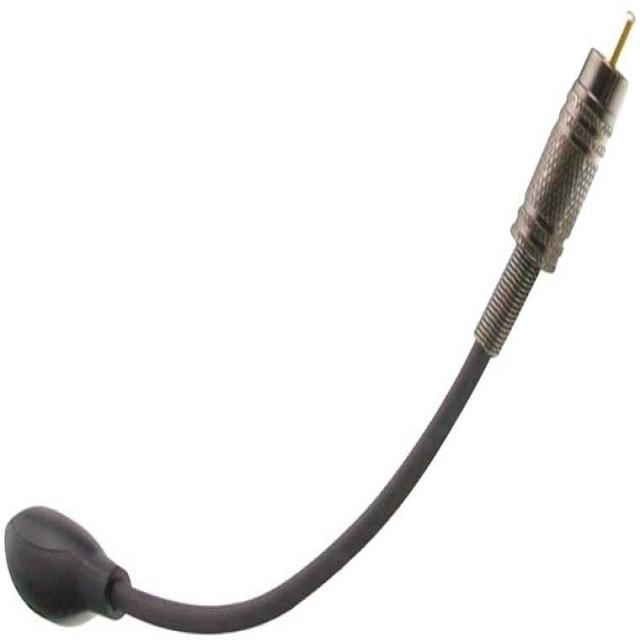microphone: (3, 507, 123, 625)
